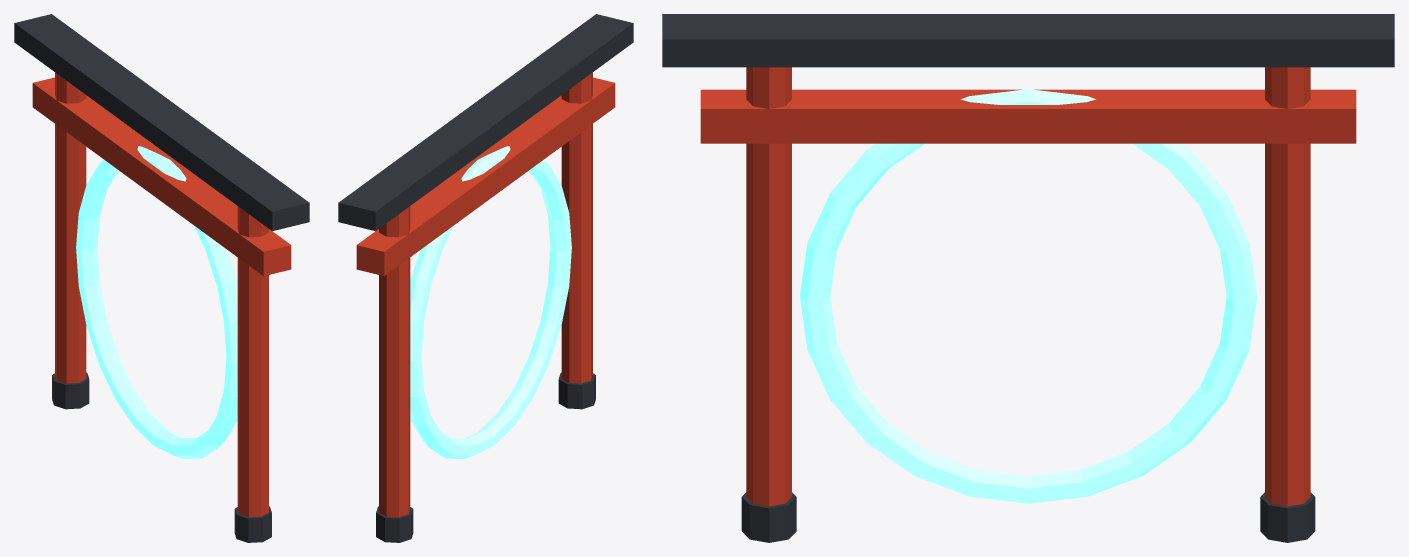
Rendered from teleportport.glb.
3 views of the same model, side by side, from view 1: azimuth 30°, elevation 25°; view 2: azimuth 150°, elevation 25°; view 3: azimuth 270°, elevation 25° (orthographic). The views are drawn at different scales.
Visible parts, largest first — view 1: teleportport; view 2: teleportport; view 3: teleportport.
Boxes of the visible parts, x1=… form: teleportport: x1=14, y1=14, x2=309, y2=542; teleportport: x1=338, y1=14, x2=633, y2=542; teleportport: x1=662, y1=14, x2=1394, y2=542.
Bounding box in the file's own units: 0.8 × 7.3 × 9.6.
